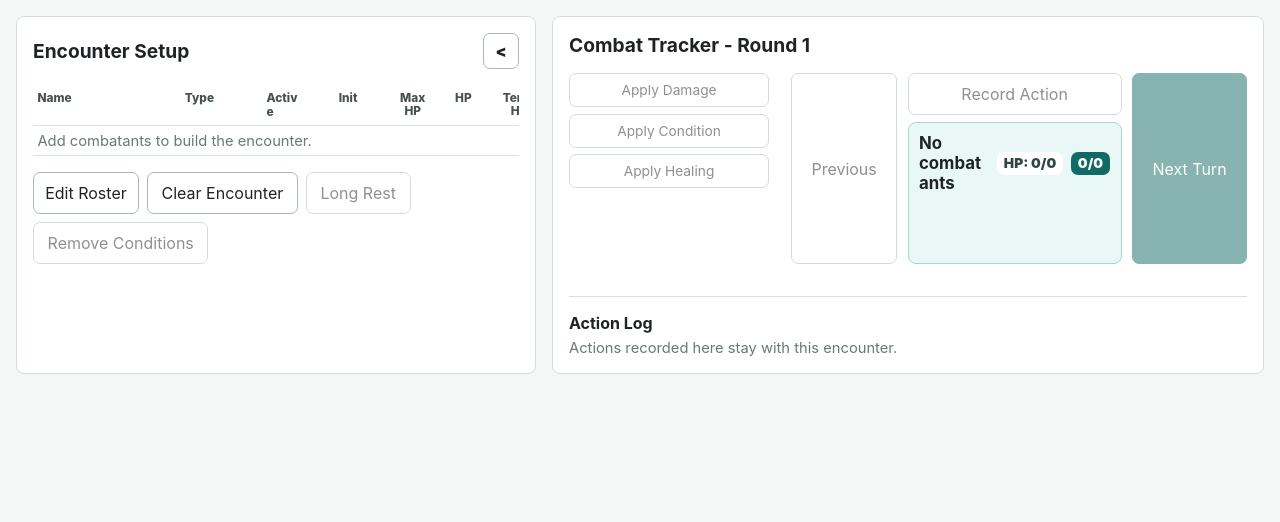
it: App workflow › adds a new combatant row and locks the name after leaving the field
The width and height of the screenshot is (1280, 522).
Expected: the button "new combatant" is not shown
Click the button "Edit Roster" at (86, 193), box [33,172,139,214]
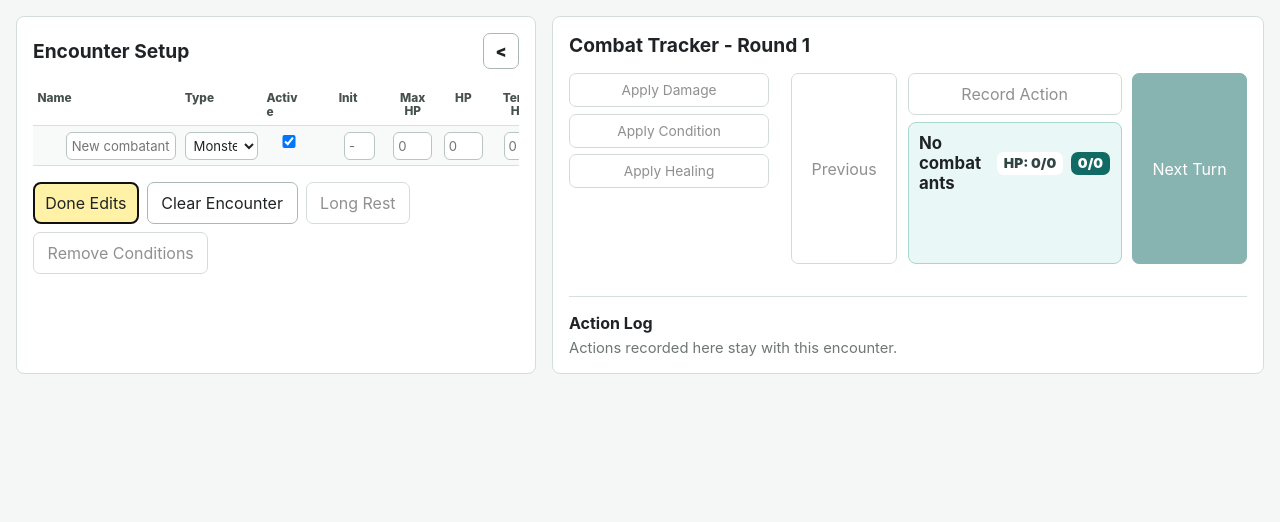
Type "Bandit" into the field labelled "New combatant name" at (121, 146), box [66,132,176,160]
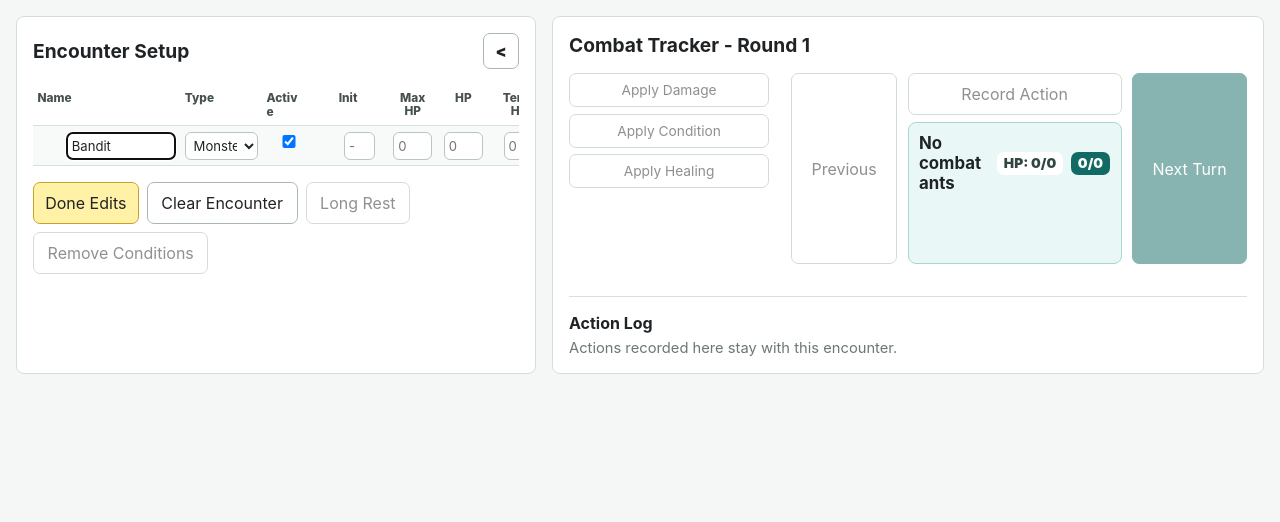
Press Tab
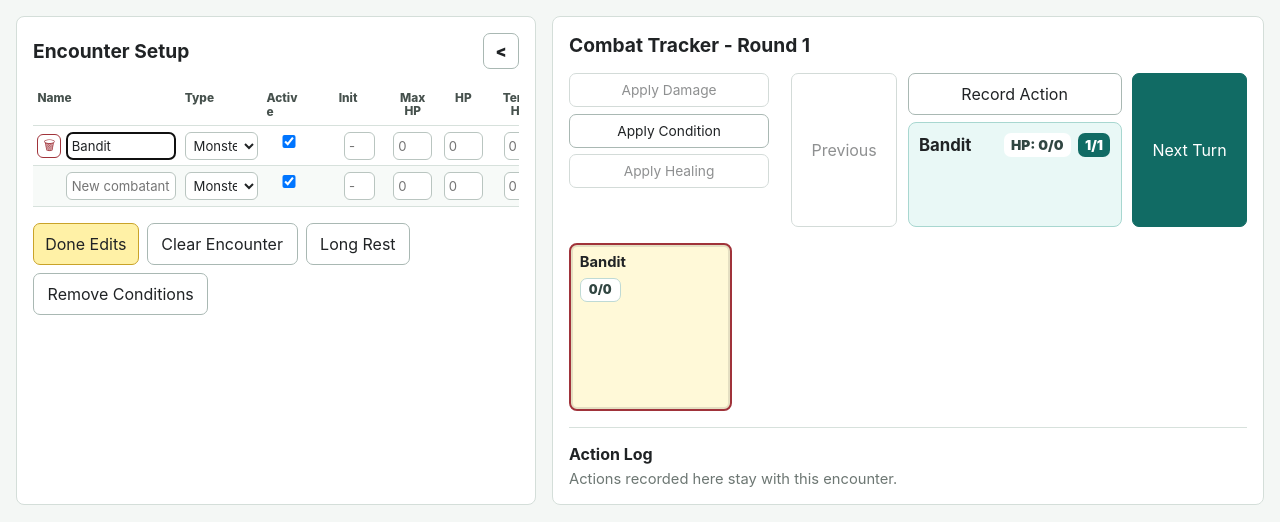
Select "NPC" in the dropdown named "Type for Bandit" at (221, 146), box [185,132,258,160]
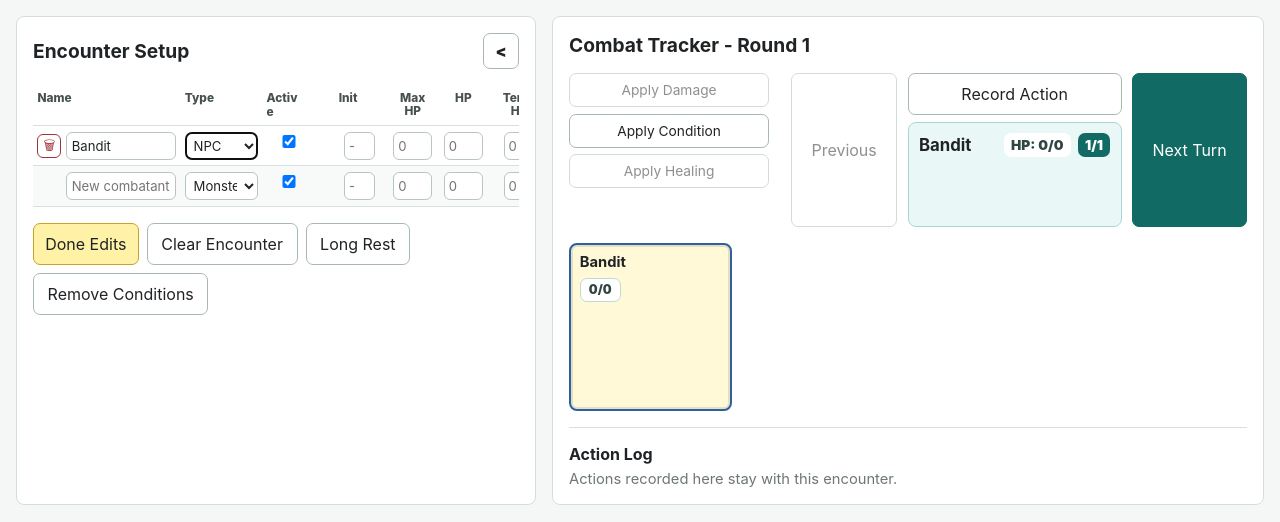
Click the button "Done Edits" at (86, 244), box [33,223,139,265]
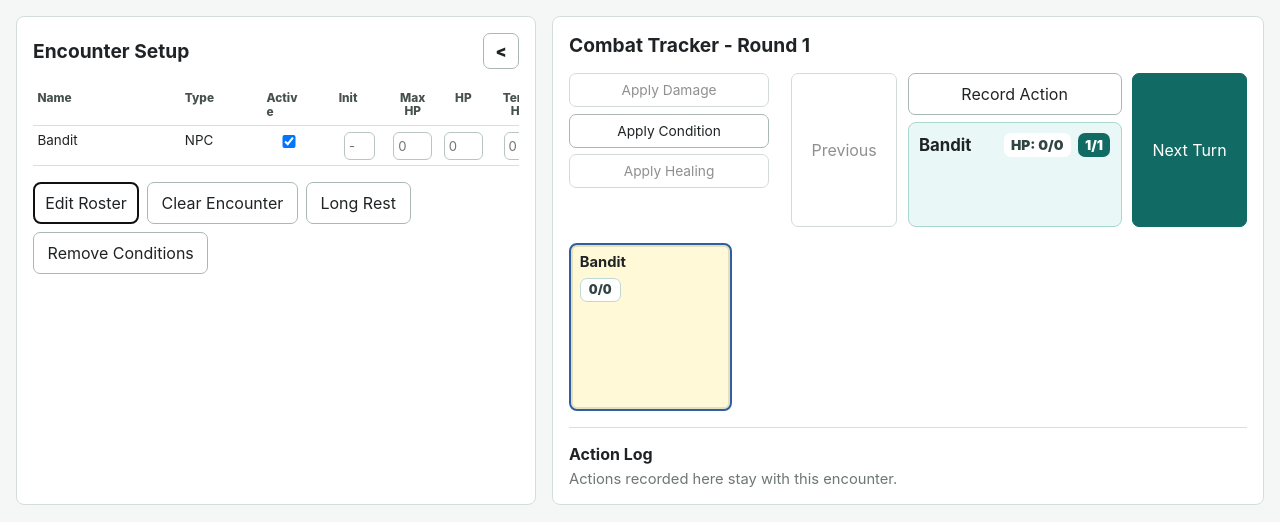
Result: the number field named "HP for Bandit" is shown at [444,132,483,160]
Result: the text "Bandit" next to "NPC" is shown at [38,132,78,148]
Result: the text "NPC" is shown at [180,125,262,166]
